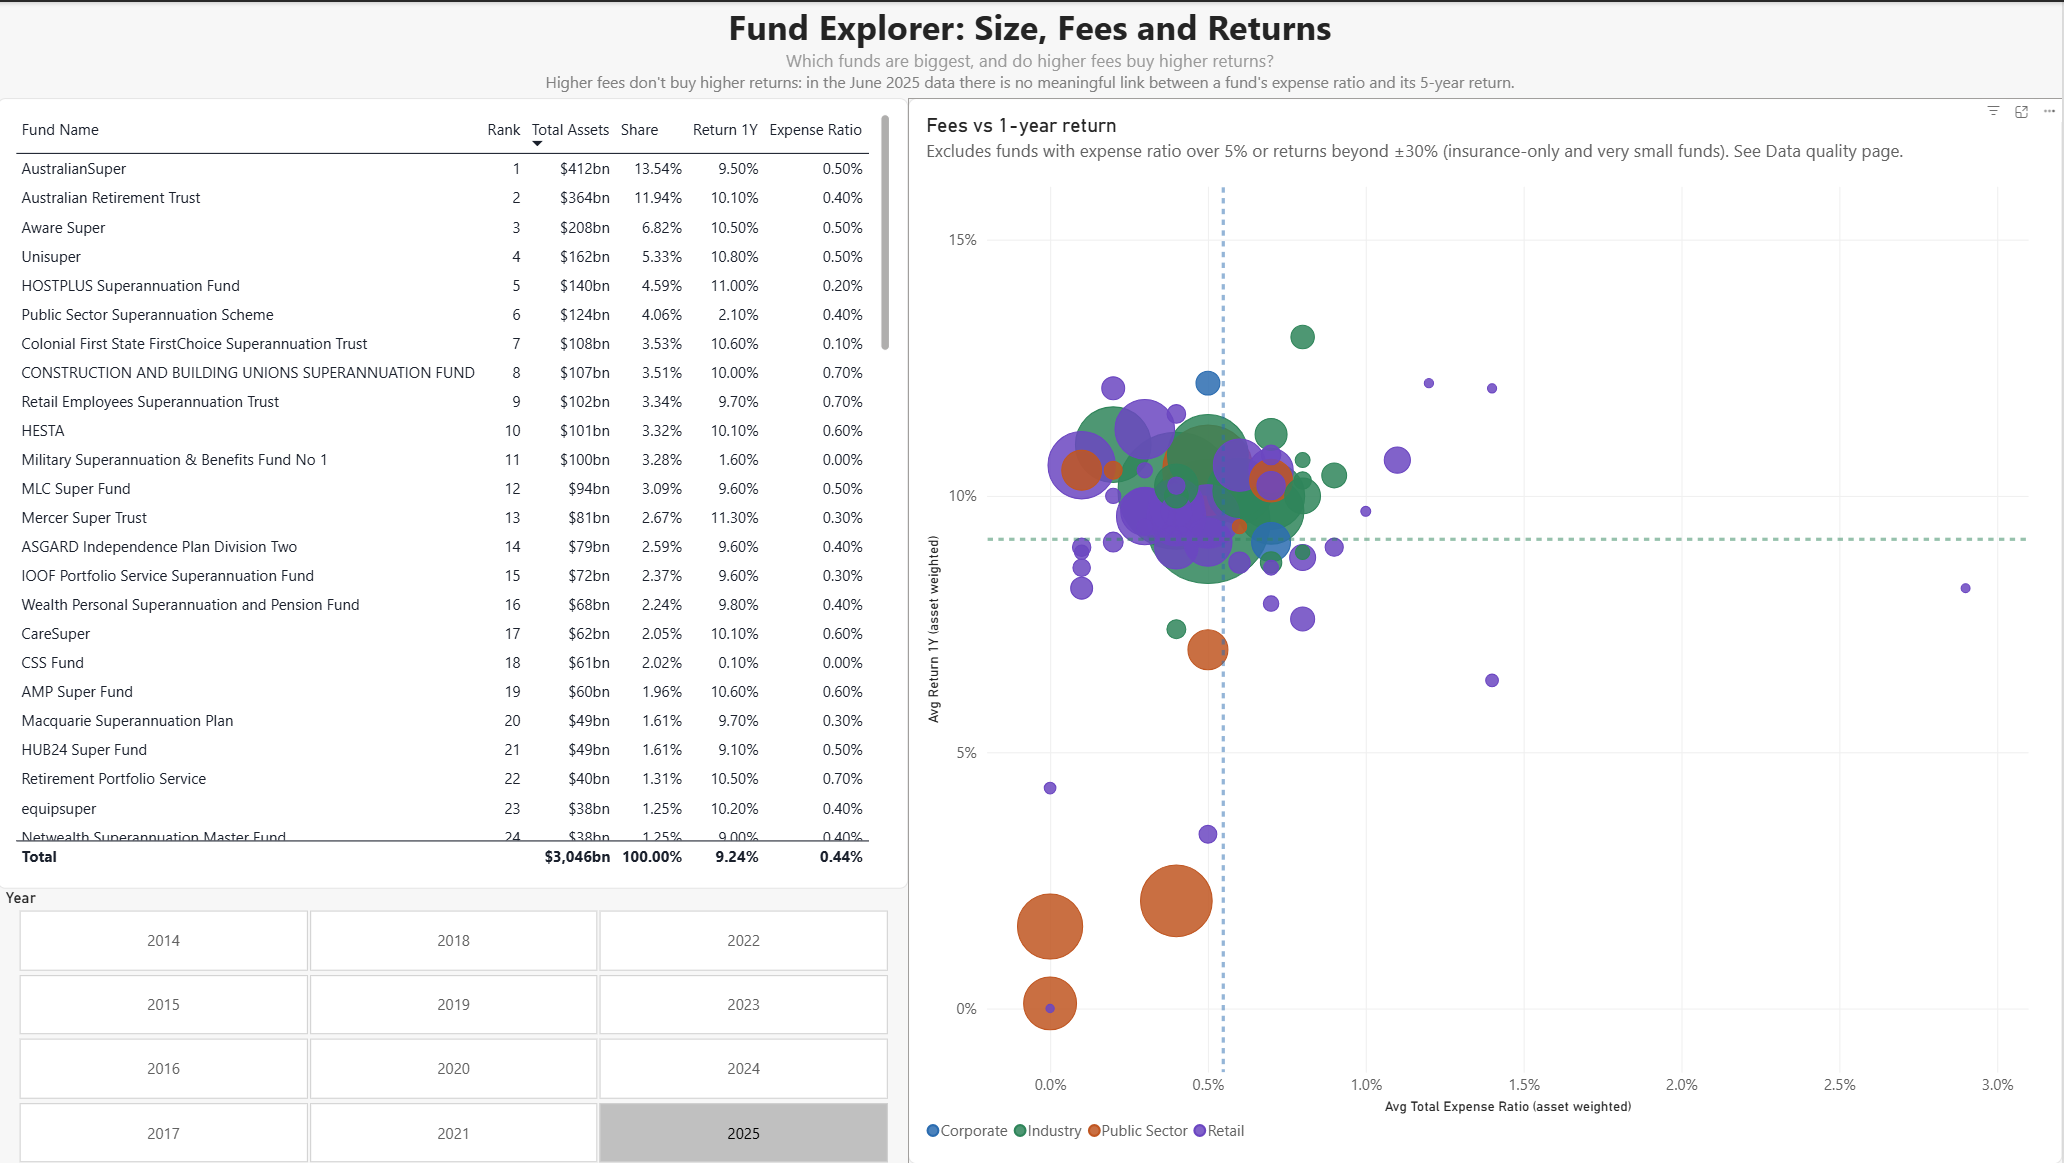

What the dashboard file says about the page in this screenshot:
{"tool":"powerbi","page":{"name":"Fund Explorer","canvas":[1920,1080],"ordinal":1},"visuals":[{"type":"tableEx","fields":{"Values":["DimFund.Fund Name","_Measures.Fund Rank by Assets","_Measures.Total Assets","_Measures.Share of Total Assets","_Measures.Avg Return 1Y (asset weighted)","_Measures.Avg Total Expense Ratio (asset weighted)"]},"box":[0,89.3,847,735],"z":0},{"type":"scatterChart","title":"Fees vs 1-year return","fields":{"Category":["DimFund.Fund Name"],"Series":["DimFundType.Fund Type"],"Size":["_Measures.Total Assets"],"X":["_Measures.Avg Total Expense Ratio (asset weighted)"],"Y":["_Measures.Avg Return 1Y (asset weighted)"]},"box":[847,89.3,1073,991.3],"z":1000},{"type":"slicer","fields":{"Values":["DimYear.Year"]},"box":[0,824.2,847,256.4],"z":3000},{"type":"textbox","box":[0,0,1920,89.6],"z":4000}]}

Visuals, with their boxes in screenshot pixels (x1, y1, x2, y2), scaled from the page's 1920x1080 canvas onto the 2064x1163 screenshot:
tableEx - DimFund.Fund Name x _Measures.Fund Rank by Assets: 0, 96, 911, 888
"Fees vs 1-year return" scatterChart: 911, 96, 2063, 1162
slicer - DimYear.Year: 0, 888, 911, 1162
textbox: 0, 0, 2063, 96
